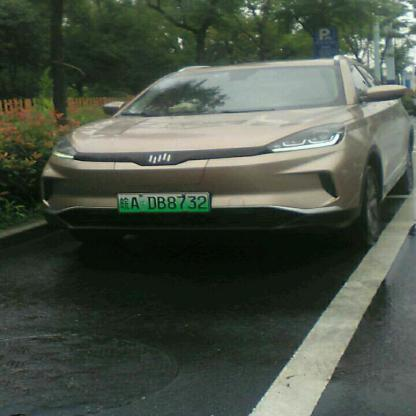lp: (117, 192, 210, 211)
